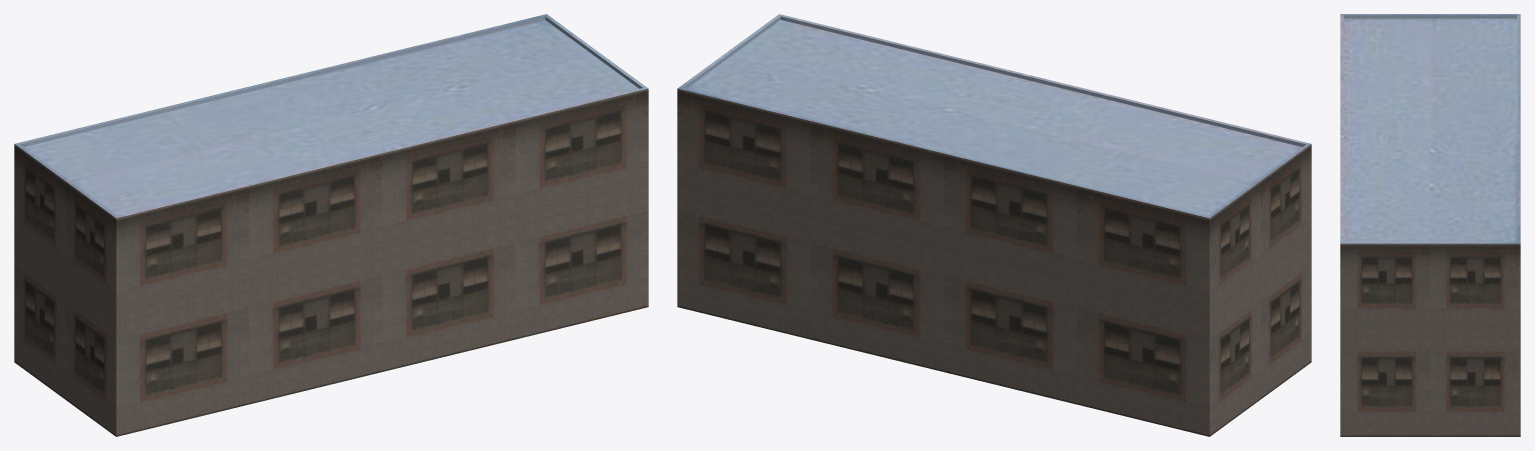
Rendered from side building30.FBX.
3 views of the same model, side by side, from view 1: azimuth 30°, elevation 25°; view 2: azimuth 150°, elevation 25°; view 3: azimuth 270°, elevation 25° (orthographic). The views are drawn at different scales.
Visible parts, largest first — view 1: Object22687; view 2: Object22687; view 3: Object22687.
Part boxes in pixels (<box>): Object22687: <box>14,14,648,436</box>; Object22687: <box>677,14,1311,436</box>; Object22687: <box>1340,14,1520,436</box>.
Bounding box in the file's own units: 46.63 × 15.45 × 18.3.
